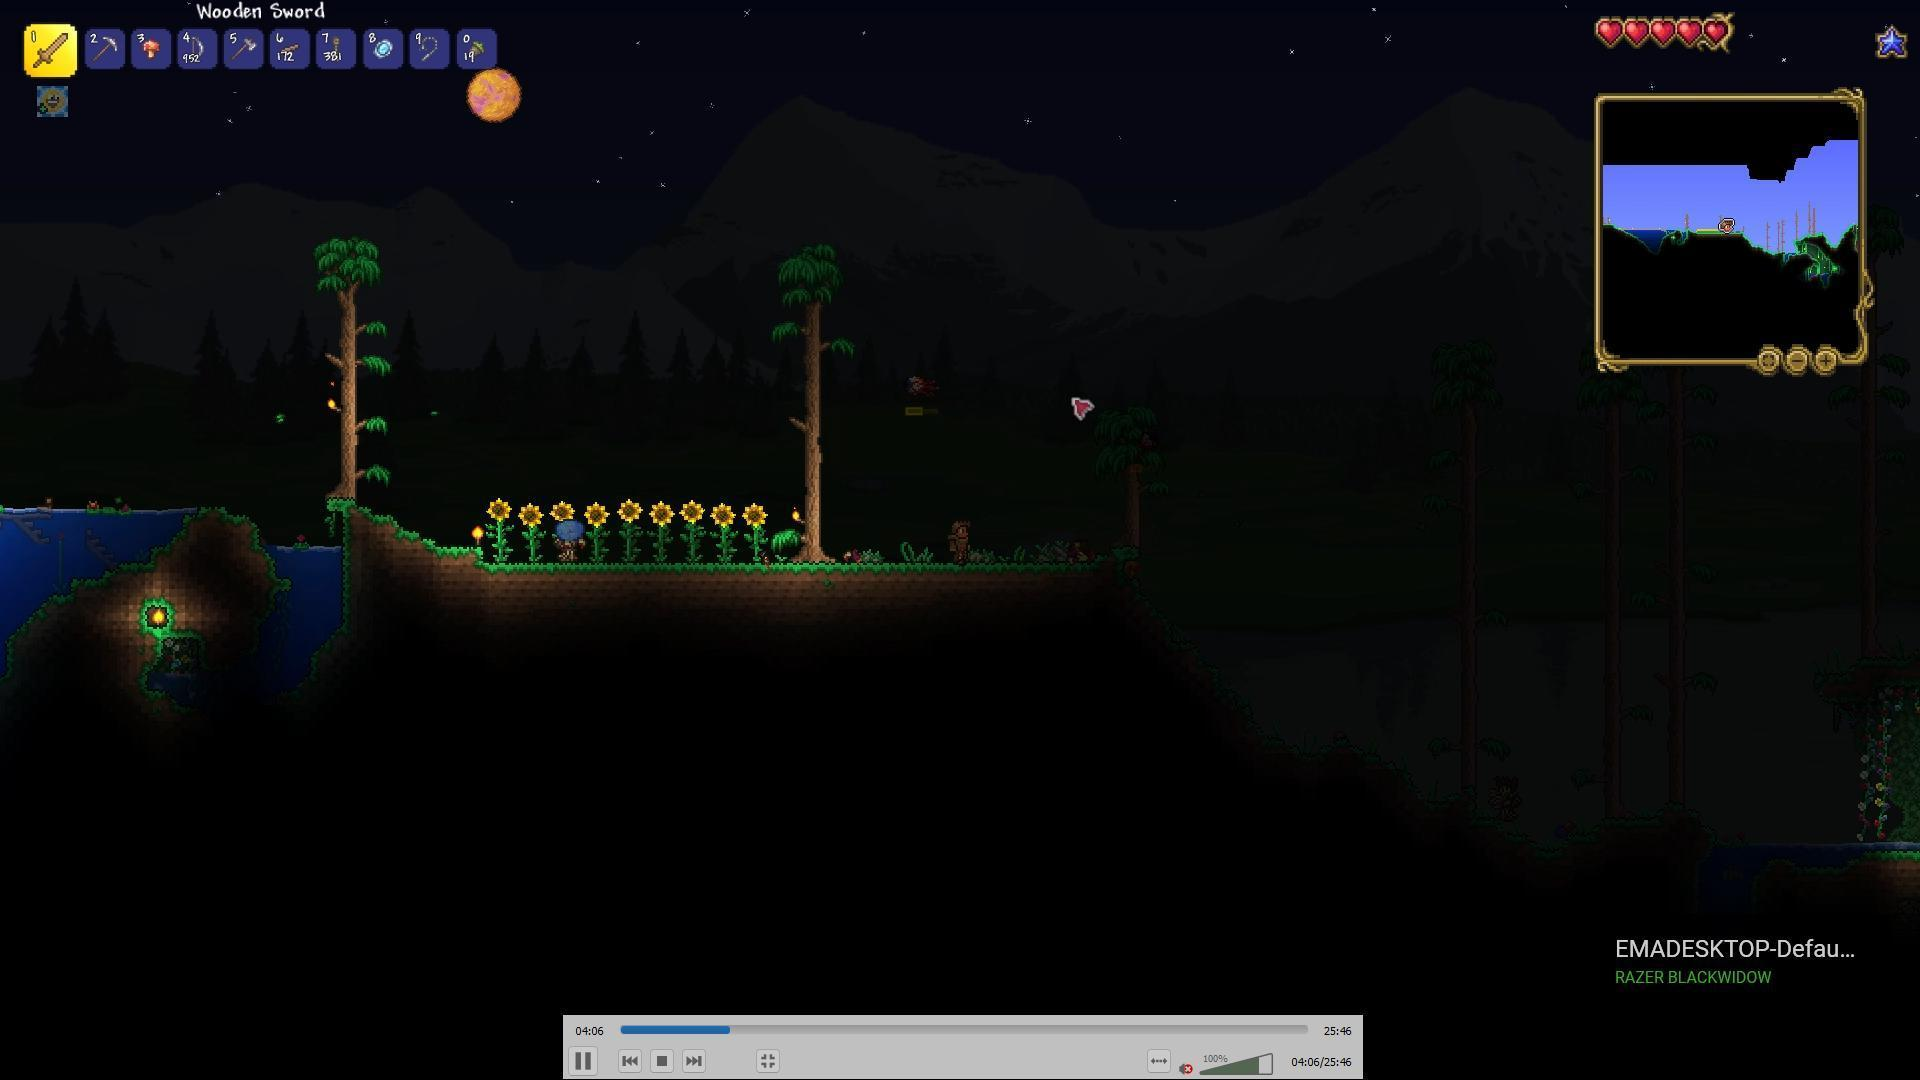eye: (899, 364, 934, 405)
